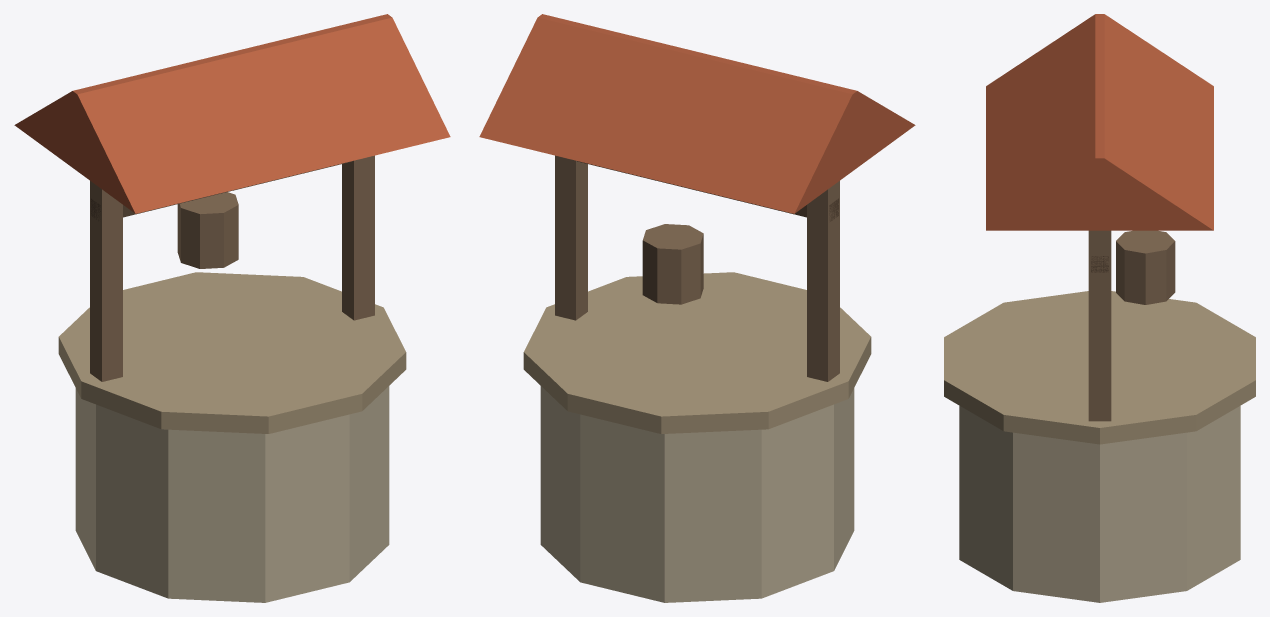
The model's file is kuyu.glb.
The picture shows the model from 3 angles, left to right: view 1: azimuth 30°, elevation 25°; view 2: azimuth 150°, elevation 25°; view 3: azimuth 270°, elevation 25°; orthographic projection. The views are drawn at different scales.
Parts seen in each view (by area): view 1: kuyu, kiremit1, tas_koyu, ahsap; view 2: kuyu, kiremit1, tas_koyu, ahsap; view 3: kuyu, kiremit1, tas_koyu, ahsap.
Boxes of the visible parts, left/top/right/bottom form: kuyu: left=75, top=386, right=389, bottom=602; kiremit1: left=14, top=14, right=450, bottom=213; tas_koyu: left=58, top=272, right=406, bottom=433; ahsap: left=90, top=155, right=374, bottom=381; kuyu: left=540, top=386, right=854, bottom=602; kiremit1: left=479, top=14, right=915, bottom=213; tas_koyu: left=523, top=272, right=871, bottom=433; ahsap: left=555, top=155, right=839, bottom=381; kuyu: left=959, top=406, right=1240, bottom=602; kiremit1: left=986, top=14, right=1213, bottom=230; tas_koyu: left=944, top=291, right=1255, bottom=444; ahsap: left=1088, top=230, right=1175, bottom=421.
Size of the model in its own units: 1.5 by 2.2 by 1.37.
